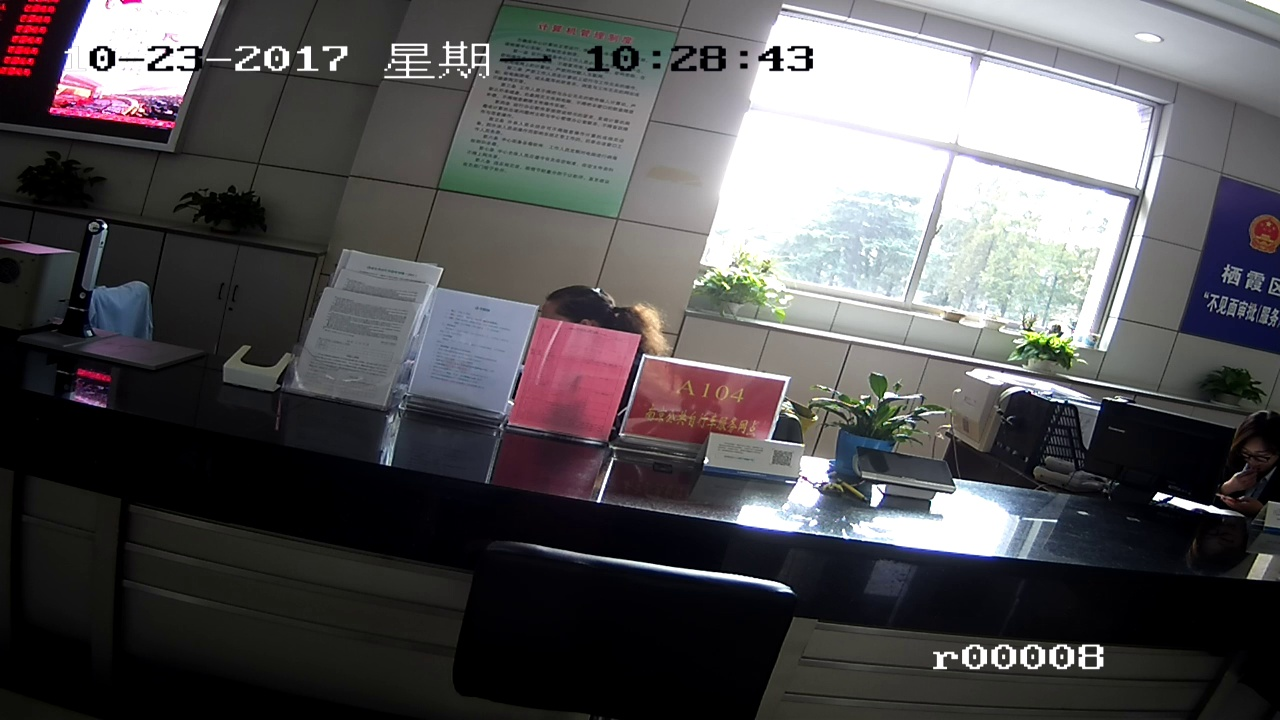billboard: (478, 11, 633, 228), (631, 363, 776, 456), (1205, 183, 1275, 339)
chair: (439, 540, 781, 703)
person: (529, 279, 645, 366), (1224, 407, 1280, 522)
pot: (821, 374, 927, 457), (693, 259, 785, 318), (185, 181, 274, 241), (17, 155, 95, 217), (1009, 323, 1081, 383), (1199, 365, 1258, 409)
